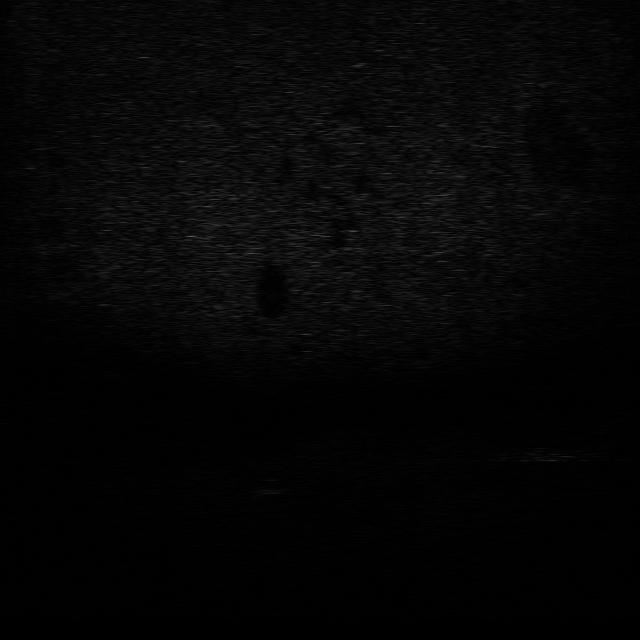ball: (245, 473, 293, 497)
human body: (502, 444, 592, 464)
